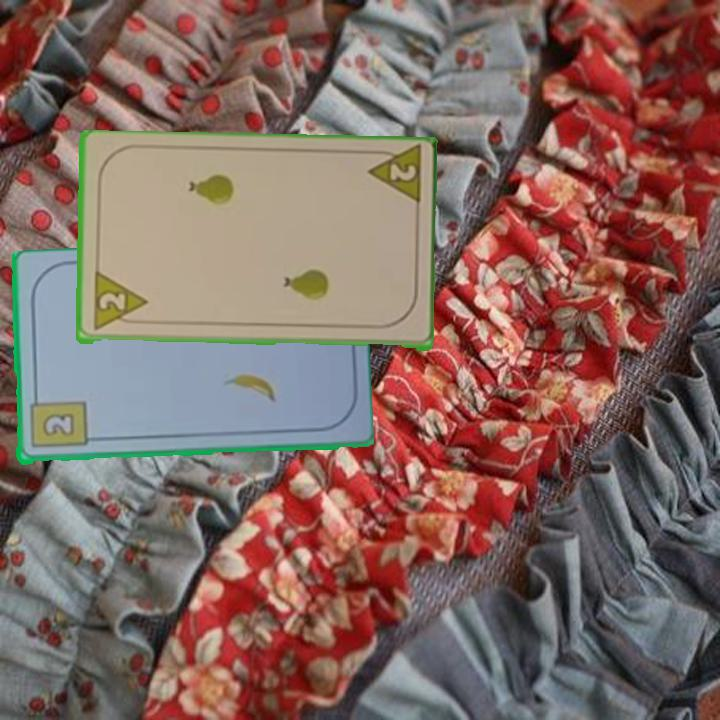2b: (26, 390, 89, 452)
2p: (363, 145, 424, 210), (89, 271, 149, 334)
